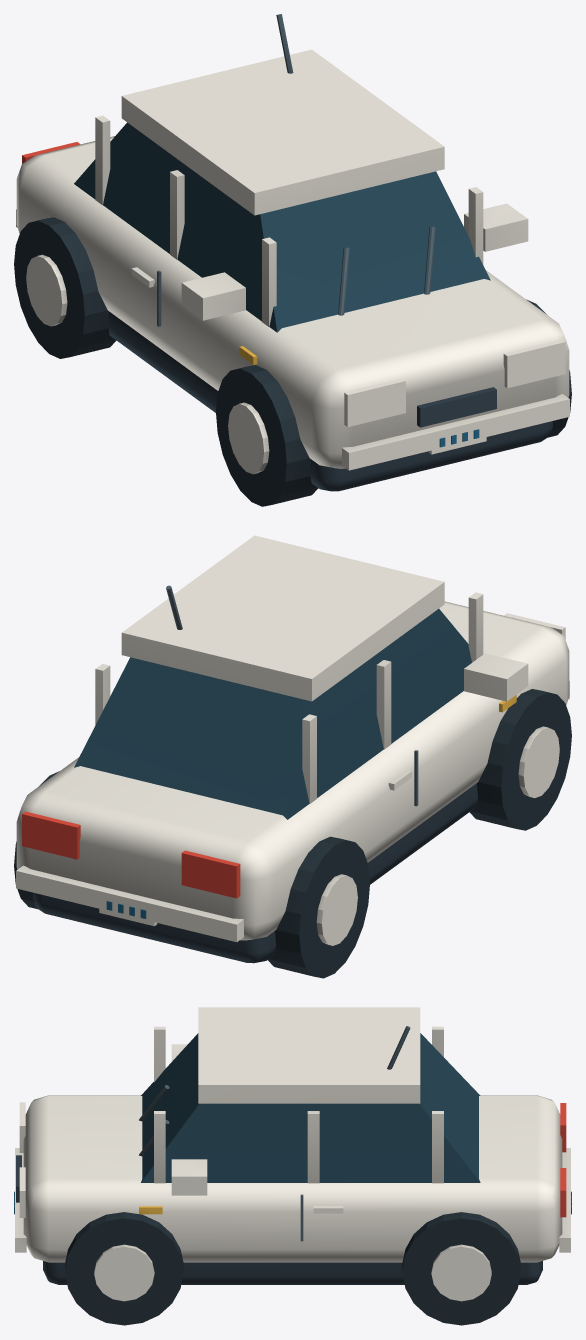
The model's file is car-white.glb.
3 views of the same model, one above another, from view 1: azimuth 30°, elevation 25°; view 2: azimuth 150°, elevation 25°; view 3: azimuth 270°, elevation 25° (orthographic). The views are drawn at different scales.
Parts seen in each view (by area): view 1: body, glazed cabin, rubber tire, chassis, windscreen wiper; view 2: body, glazed cabin, rubber tire, chassis, tail light, windscreen wiper; view 3: body, glazed cabin, rubber tire, chassis, windscreen wiper, tail light.
Part boxes in pixels (x1=…): body: x1=16, y1=49, x2=569, y2=474; glazed cabin: x1=74, y1=122, x2=490, y2=332; rubber tire: x1=14, y1=217, x2=571, y2=506; chassis: x1=108, y1=312, x2=552, y2=491; windscreen wiper: x1=157, y1=14, x2=435, y2=326; body: x1=16, y1=535, x2=569, y2=945; glazed cabin: x1=74, y1=609, x2=471, y2=819; rubber tire: x1=14, y1=689, x2=571, y2=978; chassis: x1=33, y1=783, x2=477, y2=963; tail light: x1=22, y1=811, x2=240, y2=898; windscreen wiper: x1=166, y1=585, x2=418, y2=806; body: x1=15, y1=1007, x2=570, y2=1301; glazed cabin: x1=141, y1=1033, x2=480, y2=1182; rubber tire: x1=65, y1=1212, x2=520, y2=1325; chassis: x1=16, y1=1155, x2=542, y2=1284; windscreen wiper: x1=139, y1=1026, x2=410, y2=1241; tail light: x1=560, y1=1103, x2=566, y2=1217.
Bounding box in the file's own units: 1.06 × 0.983 × 1.89.
